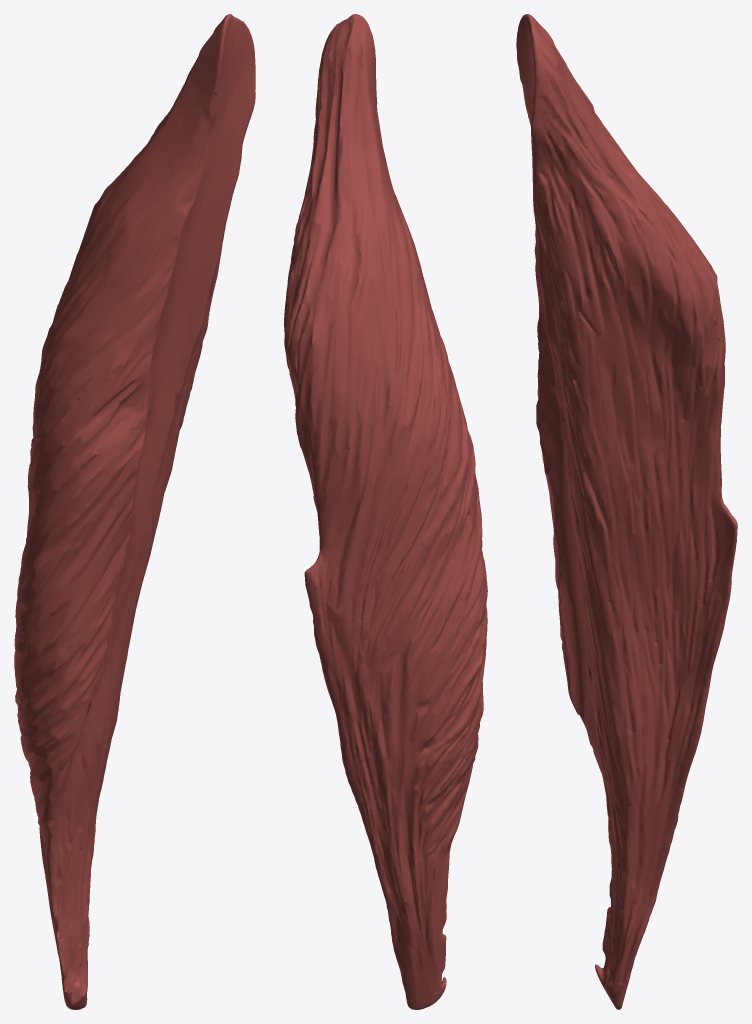
Rendered from FMA37697.glb.
The picture shows the model from 3 angles, left to right: view 1: azimuth 30°, elevation 25°; view 2: azimuth 150°, elevation 25°; view 3: azimuth 270°, elevation 25°; orthographic projection. The views are drawn at different scales.
Visible parts, largest first — view 1: FMA37697; view 2: FMA37697; view 3: FMA37697.
Boxes of the visible parts, bbox=[...] form: FMA37697: bbox=[14, 14, 255, 1009]; FMA37697: bbox=[284, 14, 487, 1009]; FMA37697: bbox=[516, 14, 737, 1009].
Size of the model in its own units: 0.0544 by 0.2563 by 0.0491.
